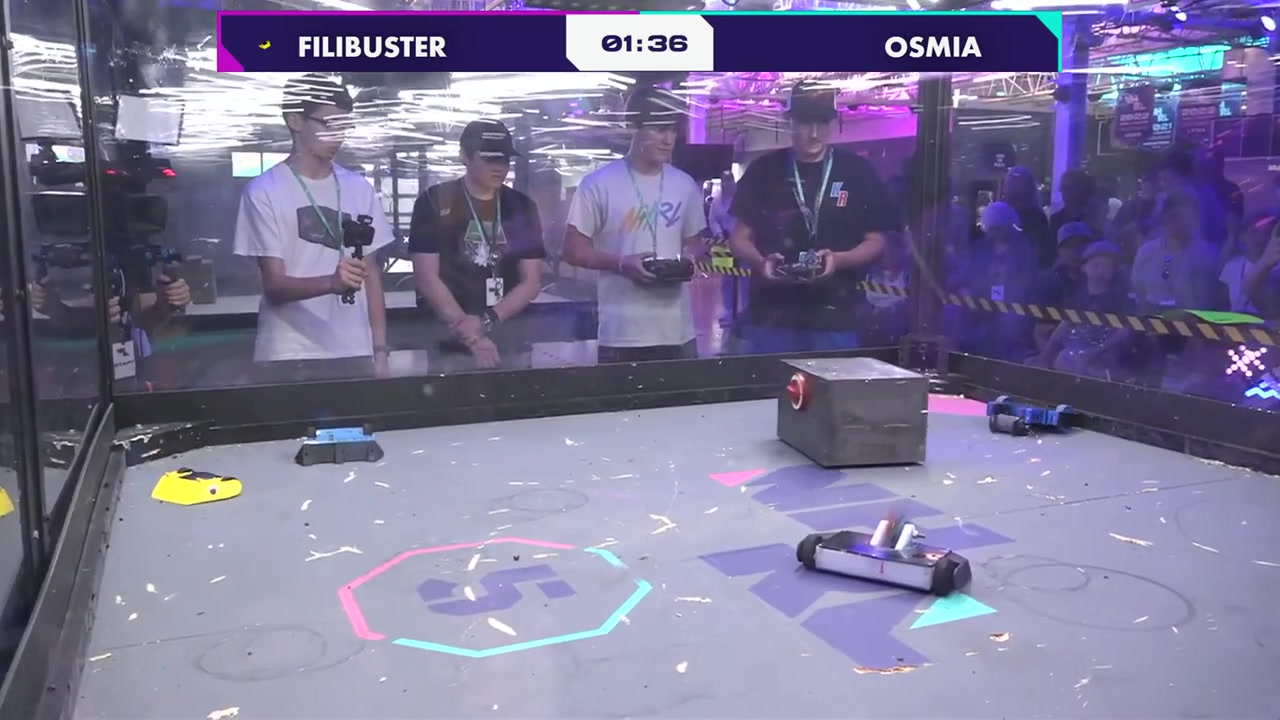combatbot: (797, 505, 973, 598), (987, 395, 1081, 440), (294, 428, 386, 467)
housebot: (776, 355, 928, 471)
minibot: (151, 468, 243, 505)
